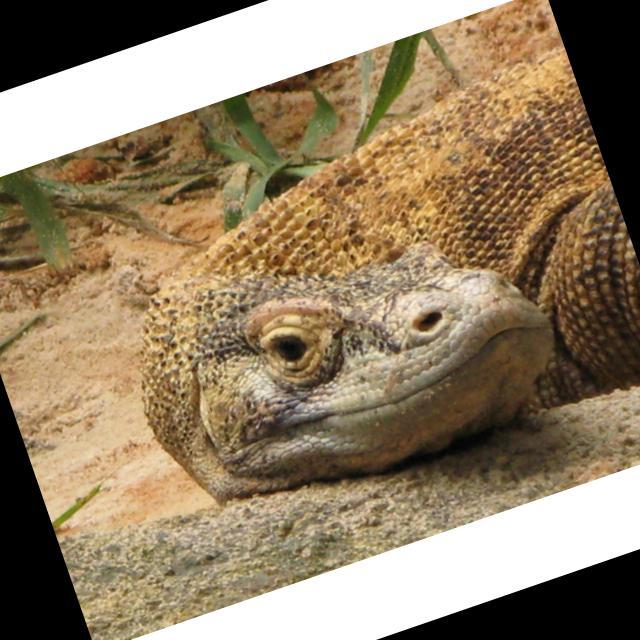KomodoDragon: (73, 41, 640, 551)
